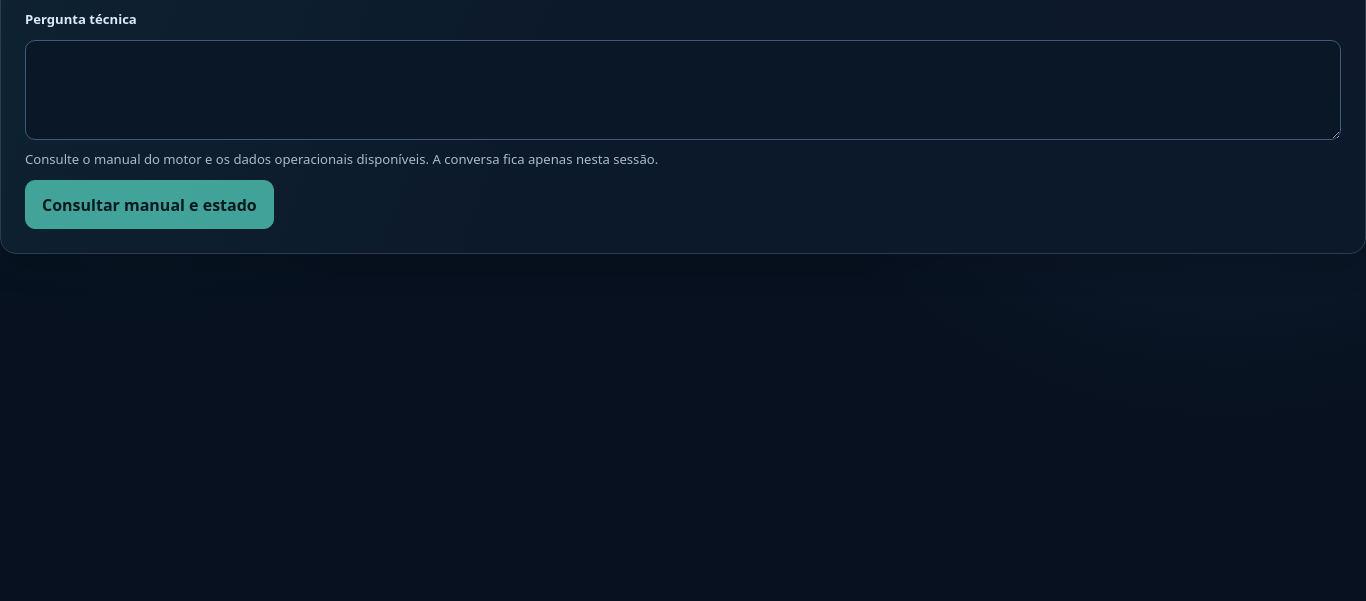
Test: TechnicalAssistantPanel grounded answer › renders a complete response with separate provenance and accessible citations
Type "Como verificar o rolamento?" into the text box labelled "Pergunta técnica". click: (683, 90)
box: left=25, top=40, right=1341, bottom=140
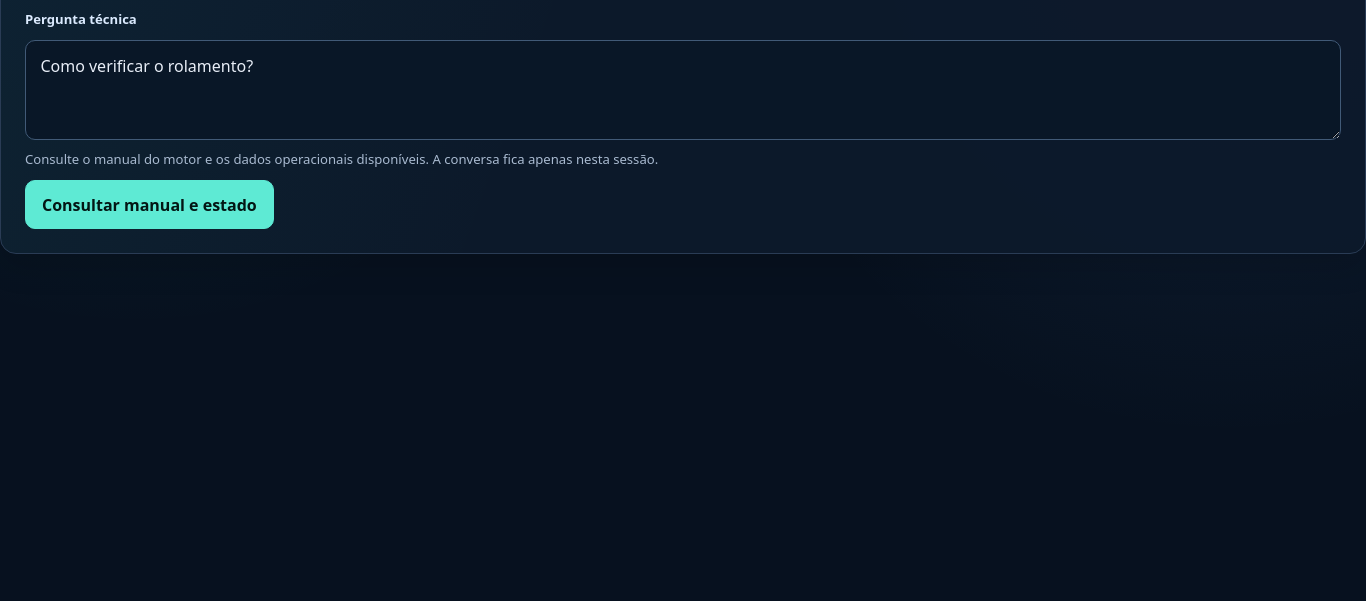
Submit the form named "Consultar o assistente técnico", box left=25, top=10, right=1341, bottom=229
(page scrolled)
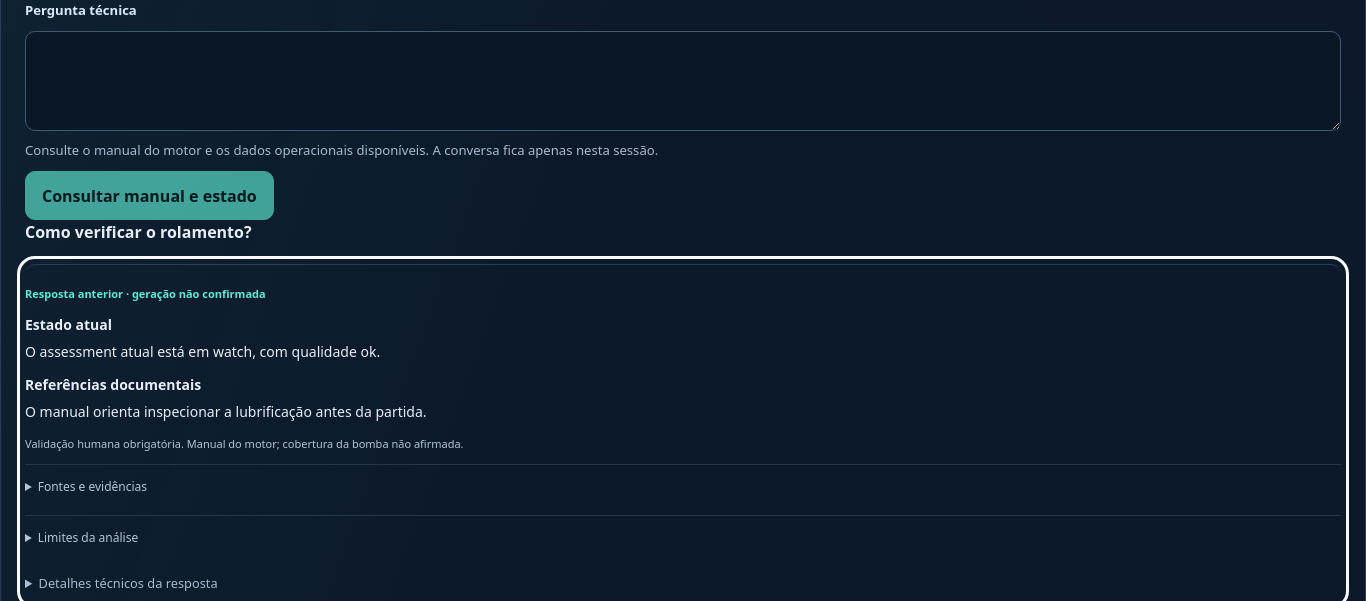
Now the text "O manual orienta inspecionar a lubrificação antes da partida." is shown, box left=25, top=402, right=427, bottom=422
Now the heading "Referências documentais" is shown, box left=25, top=376, right=201, bottom=394
Now the heading "Estado atual" is shown, box left=25, top=315, right=112, bottom=334
Click the heading "Fontes e evidências". click: (92, 487)
box: left=38, top=478, right=147, bottom=495
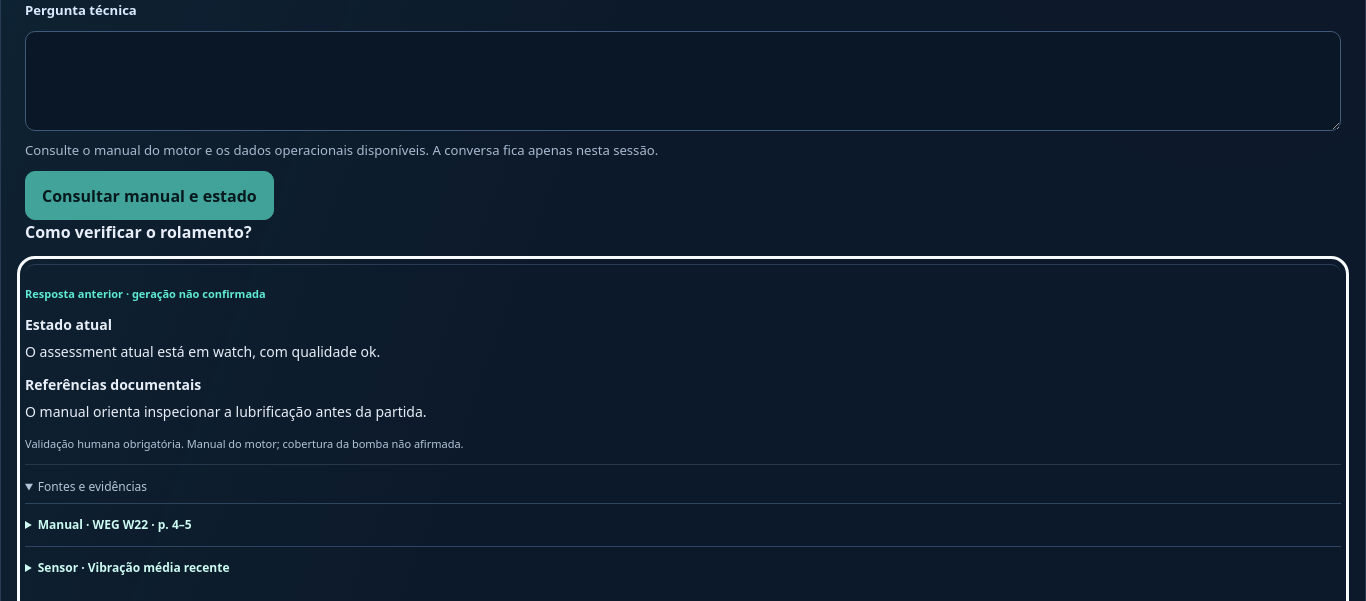
Click the heading "Manual · WEG W22 · p. 4–5". click: (115, 525)
box: left=38, top=516, right=192, bottom=533
(page scrolled)
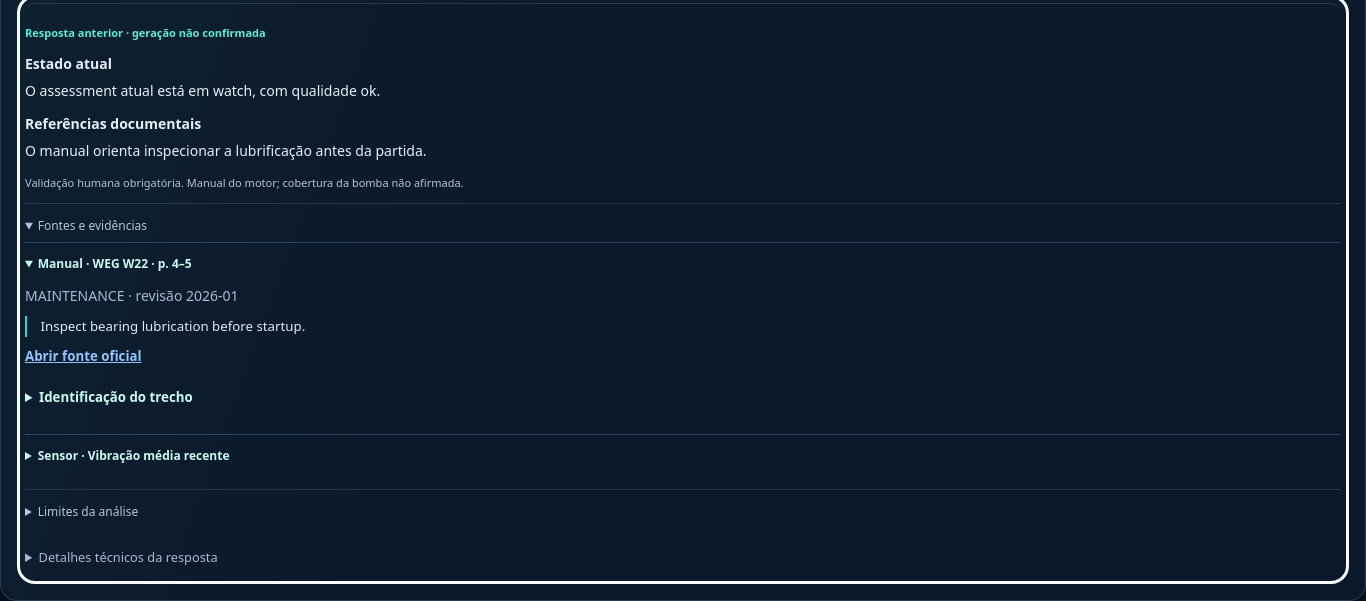
Now the text "MAINTENANCE · revisão 2026-01" is shown, box left=25, top=286, right=239, bottom=305
Now the text "Inspect bearing lubrication before startup." is shown, box left=25, top=316, right=1341, bottom=337
Click the heading "Sensor · Vibração média recente". click: (134, 456)
box: left=38, top=448, right=230, bottom=464
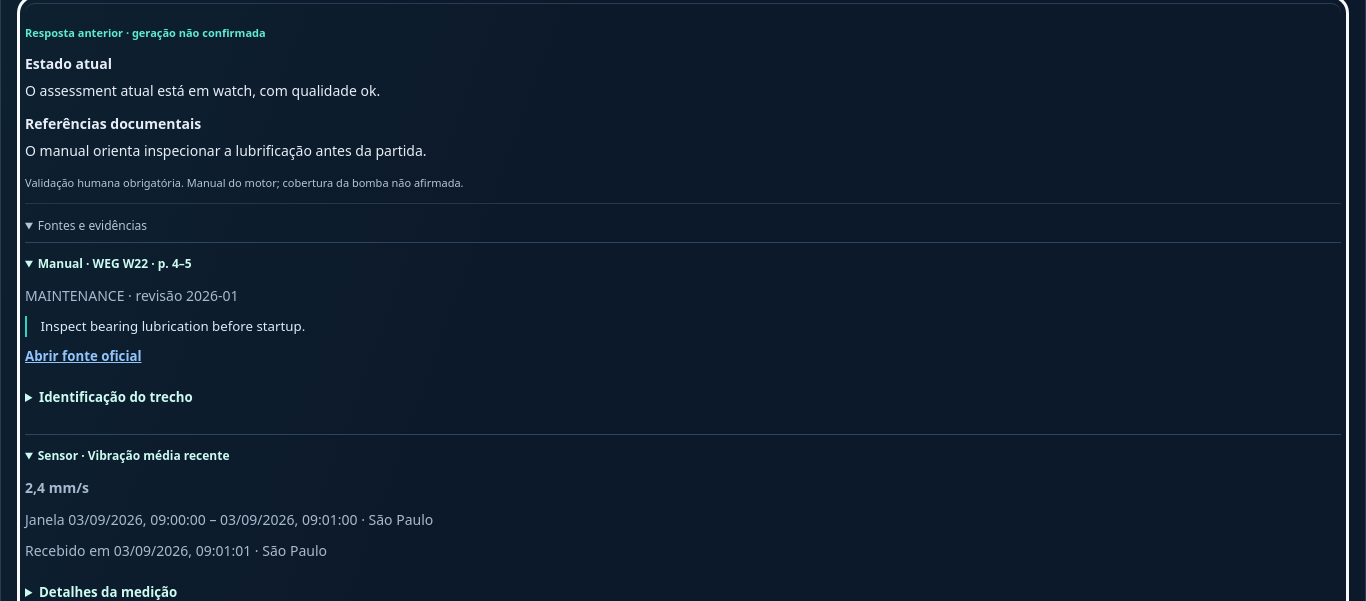
Now the text "Validação humana obrigatória" is shown, box left=25, top=175, right=464, bottom=190
Now the text "2,4 mm/s" is shown, box left=25, top=478, right=89, bottom=498
